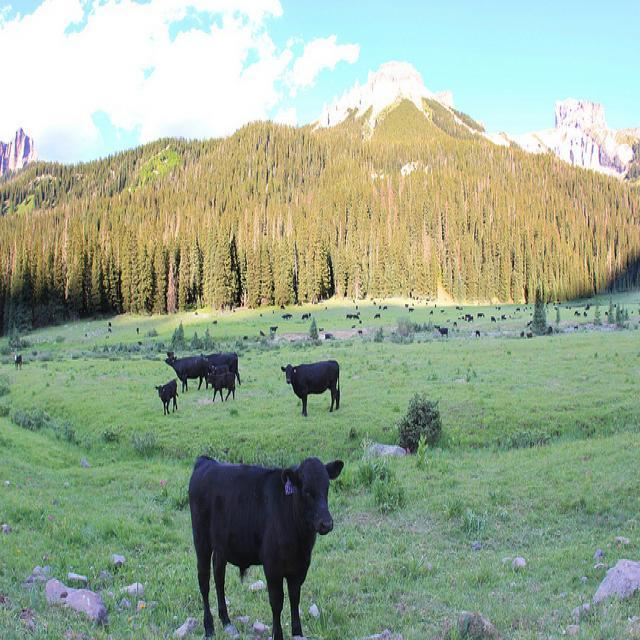cow: (186, 444, 351, 631), (280, 358, 338, 414), (163, 354, 207, 391), (198, 351, 240, 382), (154, 376, 178, 414), (206, 370, 234, 402), (12, 352, 21, 367), (437, 325, 447, 336), (269, 324, 277, 331), (299, 312, 307, 318), (474, 328, 479, 337), (351, 312, 358, 318), (463, 313, 470, 318)
